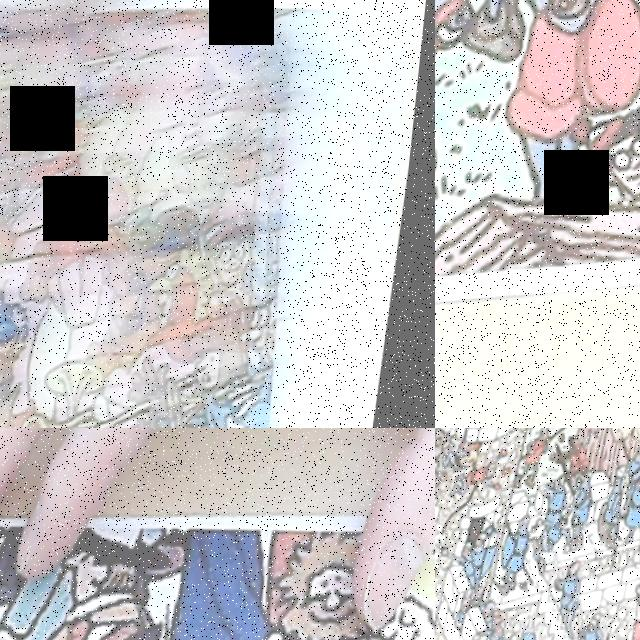waldo: (563, 106, 640, 208), (202, 211, 266, 293), (61, 604, 190, 640)
